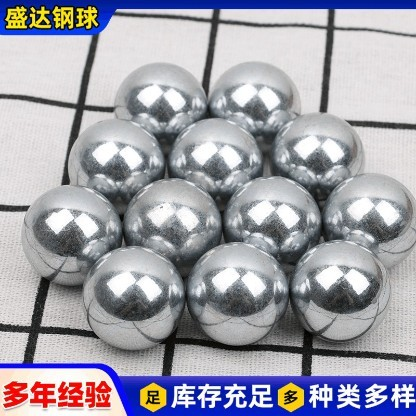ironball: (81, 244, 185, 351), (185, 241, 289, 345), (288, 238, 391, 343), (20, 184, 122, 286), (122, 177, 222, 277), (67, 118, 165, 216), (222, 175, 321, 271), (321, 172, 415, 269), (166, 117, 263, 211), (269, 111, 364, 205), (206, 60, 301, 153), (113, 61, 207, 154)
